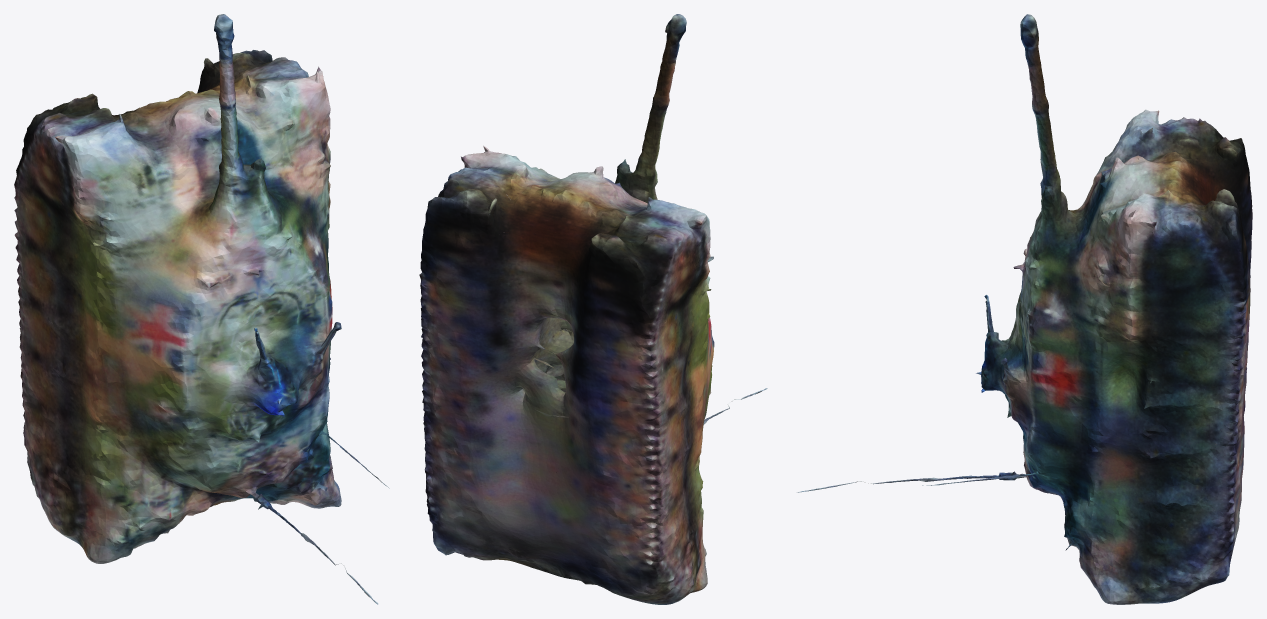
The model's file is A tank, highly detailed.glb.
3 views of the same model, side by side, from view 1: azimuth 30°, elevation 25°; view 2: azimuth 150°, elevation 25°; view 3: azimuth 270°, elevation 25° (orthographic). The views are drawn at different scales.
Size of the model in its own units: 0.6749 by 1.36 by 1.08.
Materials: 1 (1 with a texture image).
